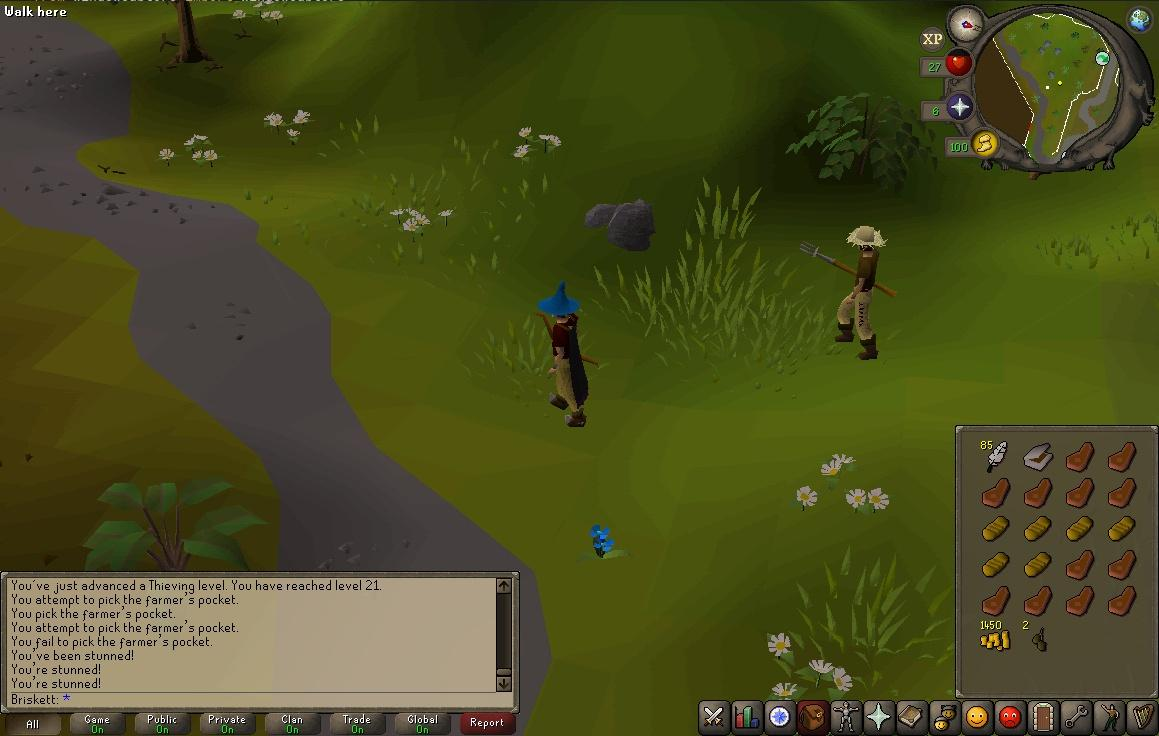Farmer: (799, 225, 898, 361)
